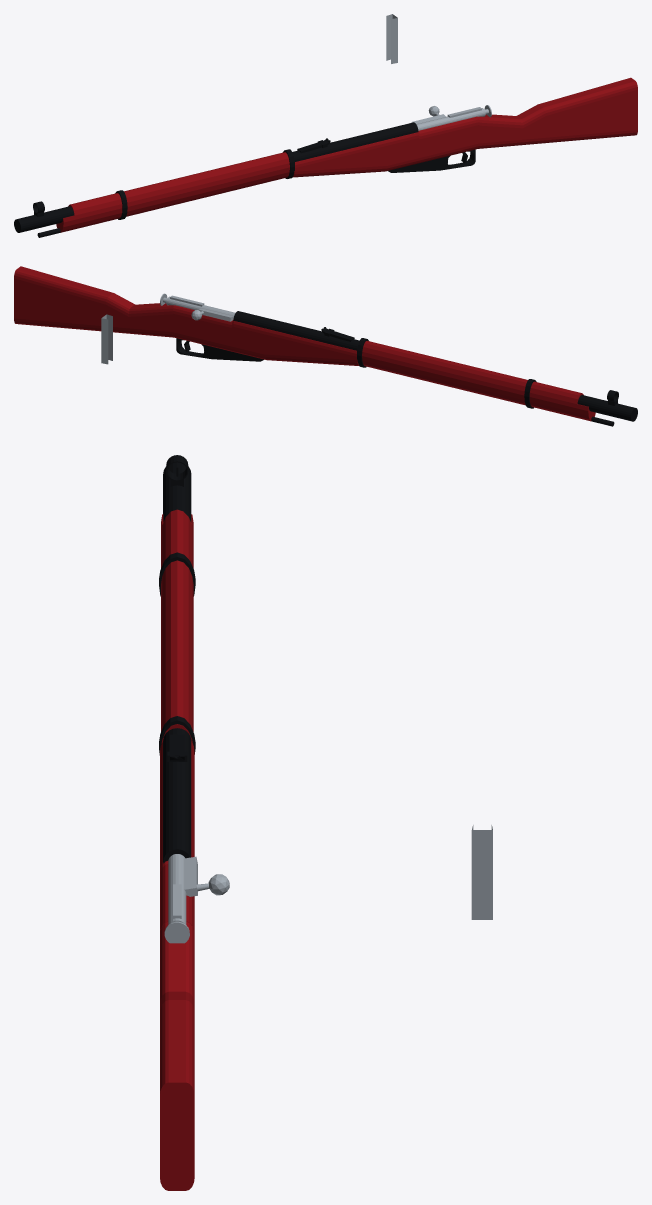
The model's file is mosin-nagant0054.obj.
3 renders of one model, top to bottom at view 1: azimuth 30°, elevation 25°; view 2: azimuth 150°, elevation 25°; view 3: azimuth 270°, elevation 25°, orthographic. The views are drawn at different scales.
Visible parts, largest first — view 1: stock, barrel, triggerGuard, clip, bolt; view 2: stock, barrel, triggerGuard, clip, bolt; view 3: stock, barrel, clip.
Part boxes in pixels (x1,y1,x2,y2): stock: [56, 77, 637, 232]; barrel: [14, 122, 418, 232]; triggerGuard: [388, 149, 475, 172]; clip: [386, 14, 397, 63]; bolt: [416, 108, 485, 130]; stock: [14, 266, 595, 421]; barrel: [233, 311, 637, 421]; triggerGuard: [176, 338, 263, 361]; clip: [101, 314, 112, 364]; bolt: [166, 296, 235, 319]; stock: [160, 509, 194, 1190]; barrel: [163, 462, 191, 863]; clip: [471, 825, 492, 919].
Bounding box in the file's own units: 16.32 × 2.57 × 3.83.
